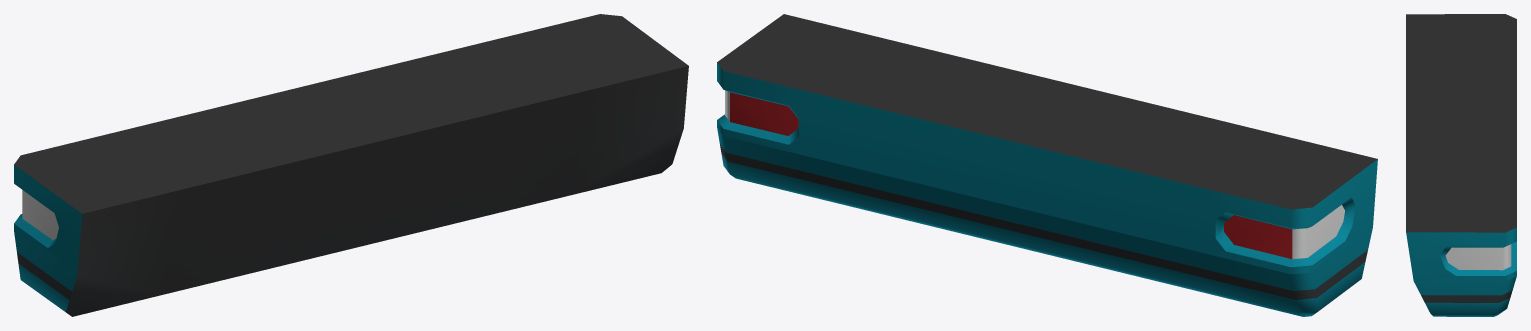
The model's file is Car_04_RearBumper_Simple.fbx.
3 views of the same model, side by side, from view 1: azimuth 30°, elevation 25°; view 2: azimuth 150°, elevation 25°; view 3: azimuth 270°, elevation 25° (orthographic). The views are drawn at different scales.
Visible parts, largest first — view 1: Car_04_RearBumper_Simple; view 2: Car_04_RearBumper_Simple; view 3: Car_04_RearBumper_Simple.
Boxes of the visible parts, x1,y1,x2,y2 form: Car_04_RearBumper_Simple: [14, 14, 688, 316]; Car_04_RearBumper_Simple: [717, 14, 1377, 316]; Car_04_RearBumper_Simple: [1406, 14, 1516, 316].
Bounding box in the file's own units: 200 × 42.89 × 37.41.
